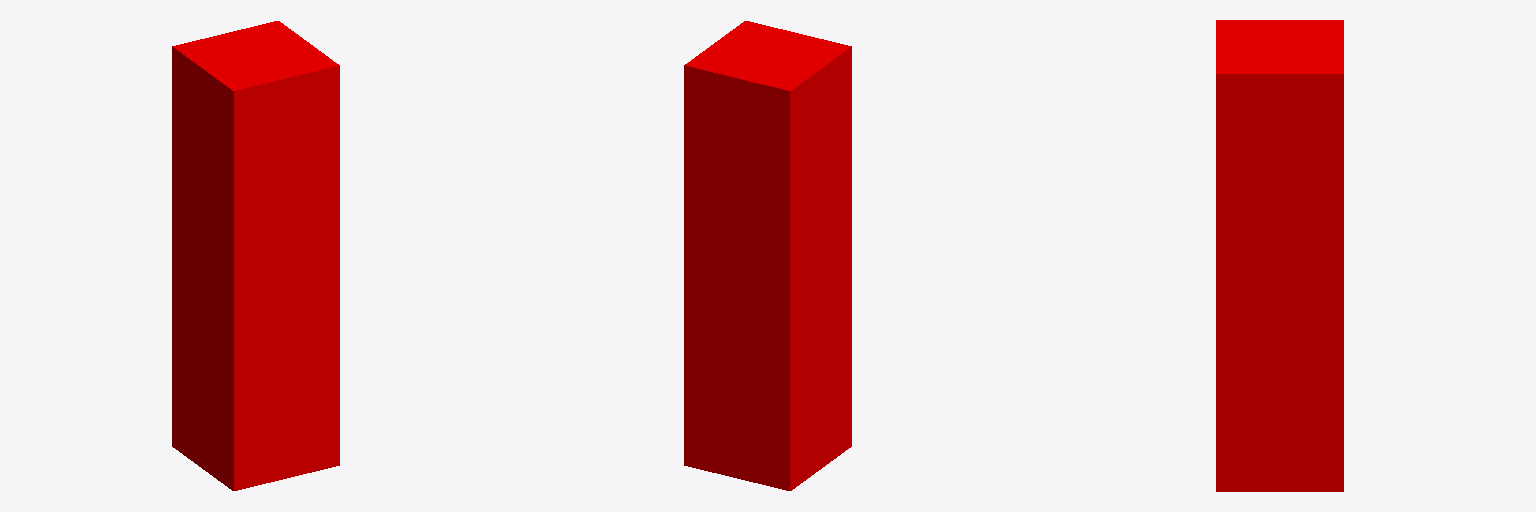
robot.urdf — stick:
<?xml version="1.0" ?>
<robot name="stick">
  <link name="baseLink">
    <contact>
      <lateral_friction value="1.0"/>
      <rolling_friction value="1.0"/>
      <spinning_friction value="1.0"/>
      <!--contact_cfm value="0.0"/-->
      <!--contact_erp value="1.0"/-->
    </contact>
    <inertial>
      <origin rpy="0 0 0" xyz="0 0 0"/>
       <mass value="1.0"/>
       <inertia ixx="1" ixy="0" ixz="0" iyy="1" iyz="0" izz="1"/>
    </inertial>
    <visual>
      <origin rpy="0 0 0" xyz="0 0 0"/>
      <geometry>
				<box size="0.025 0.025 0.09"/>
      </geometry>
       <material name="red">
        <color rgba="1 0 0 1"/>
      </material>
    </visual>
    <collision>
      <origin rpy="0 0 0" xyz="0 0 0"/>
      <geometry>
	 	  <box size="0.025 0.025 0.09"/>
      </geometry>
    </collision>
  </link>
</robot>

--- What the picture shows (computed from the rendered views, not written in the file) ---
3 views of the same robot in one strip: view 1: azimuth 30°, elevation 25°; view 2: azimuth 150°, elevation 25°; view 3: azimuth 270°, elevation 25° (orthographic).
Model stick with 1 links and 0 joints (none), rooted at baseLink, posed every joint at zero.
Links seen in each view (by area): view 1: baseLink; view 2: baseLink; view 3: baseLink.
Boxes of the visible links, bbox=[...] form: baseLink: bbox=[172, 21, 339, 490]; baseLink: bbox=[684, 21, 851, 490]; baseLink: bbox=[1216, 20, 1343, 491].
Bounding box of the posed robot: 0.025 × 0.025 × 0.09 m (x, y, z).
Geometry: primitives only (box / cylinder / sphere), no mesh files.
